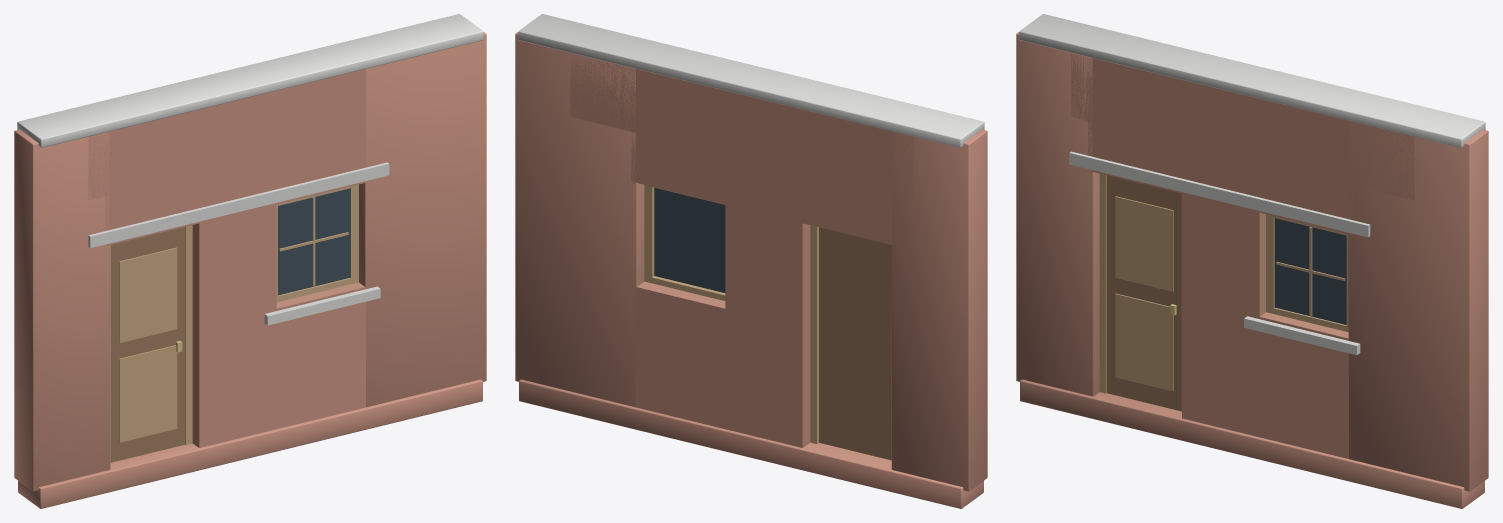
File: Brick_Wall.fbx
3 views of the same model, side by side, from view 1: azimuth 30°, elevation 25°; view 2: azimuth 150°, elevation 25°; view 3: azimuth 330°, elevation 25° (orthographic).
Visible parts, largest first — view 1: LOD0; view 2: LOD0; view 3: LOD0.
Part boxes in pixels (box(x1,y1,x2,y2)): LOD0: box(14, 14, 486, 508); LOD0: box(515, 14, 987, 508); LOD0: box(1016, 14, 1488, 508).
Size of what is drawn, in the model's own units: 410 by 320 by 39.
